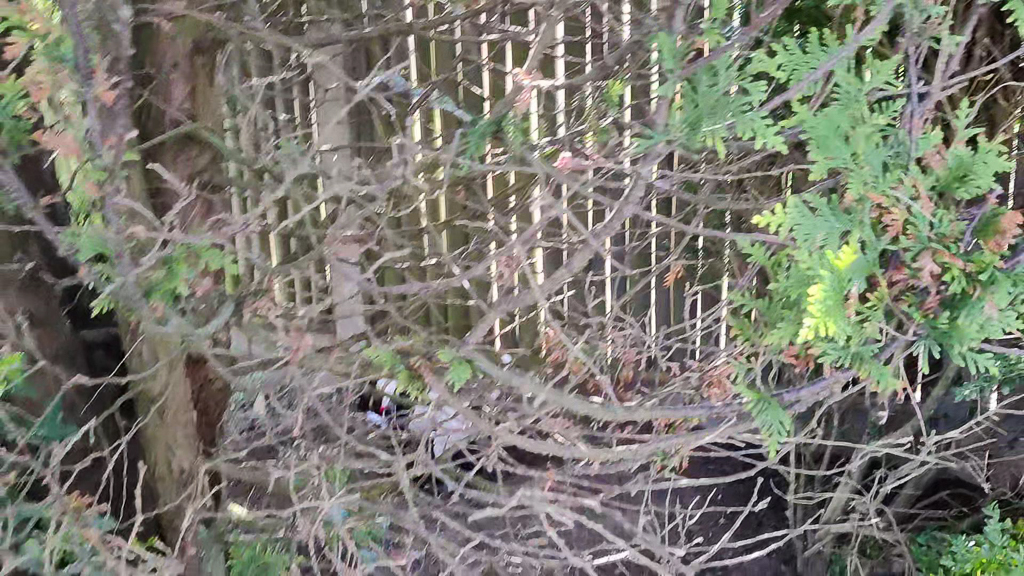Dog: (346, 369, 493, 462)
